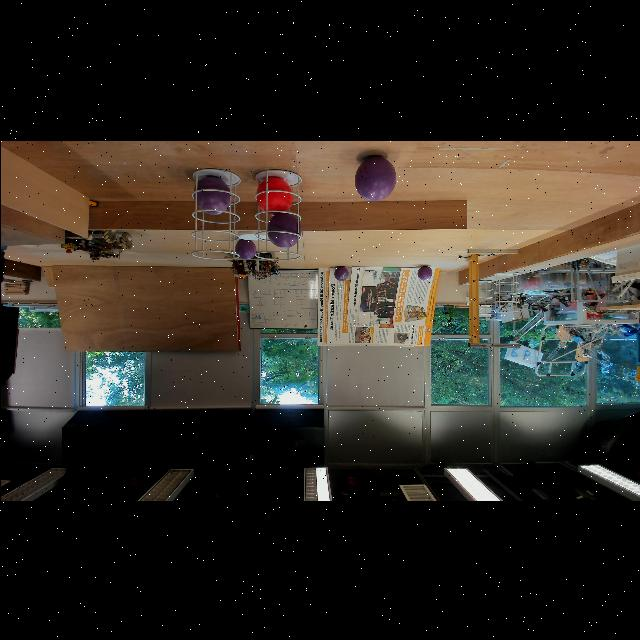P: (353, 156, 395, 200), (192, 176, 230, 214), (266, 211, 300, 247), (234, 238, 256, 258), (416, 264, 432, 280), (334, 266, 348, 280)
R: (255, 176, 292, 214)
S: (189, 166, 241, 260), (253, 168, 303, 260), (492, 270, 518, 312), (475, 278, 493, 314)
